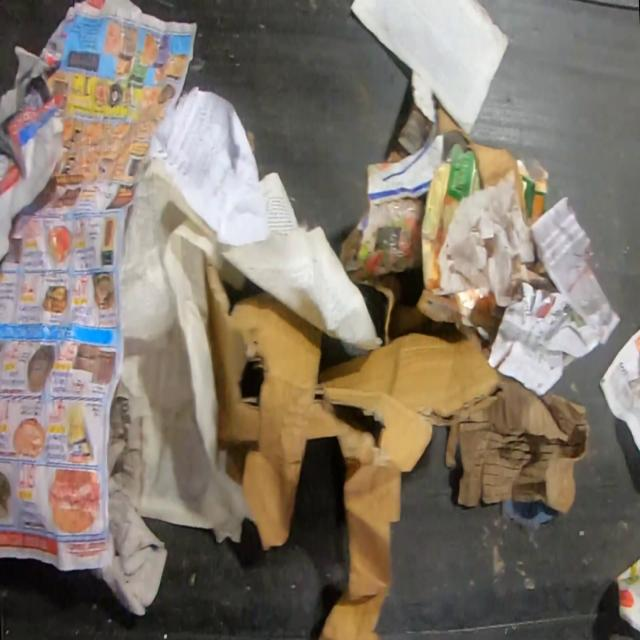cardboard: (205, 261, 504, 638), (448, 378, 589, 512), (444, 133, 522, 203), (514, 158, 550, 227), (438, 99, 466, 136)
